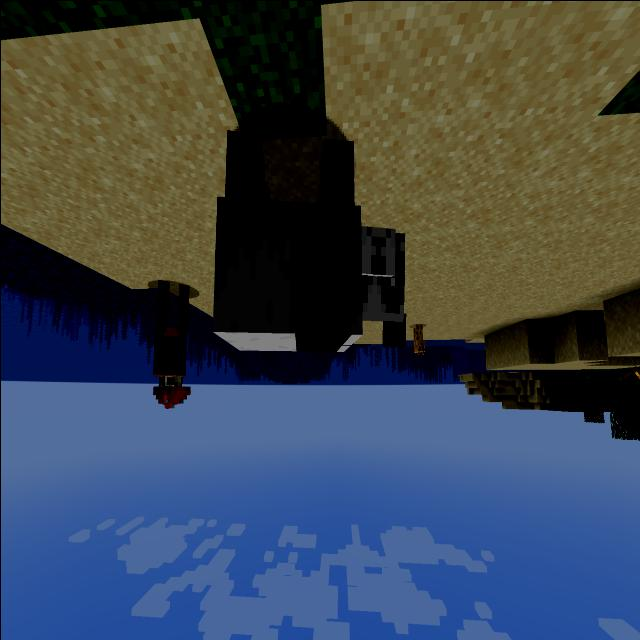Mooshroom: (148, 274, 194, 414)
Ocelot: (409, 318, 425, 359)
Panda: (208, 119, 406, 362)
